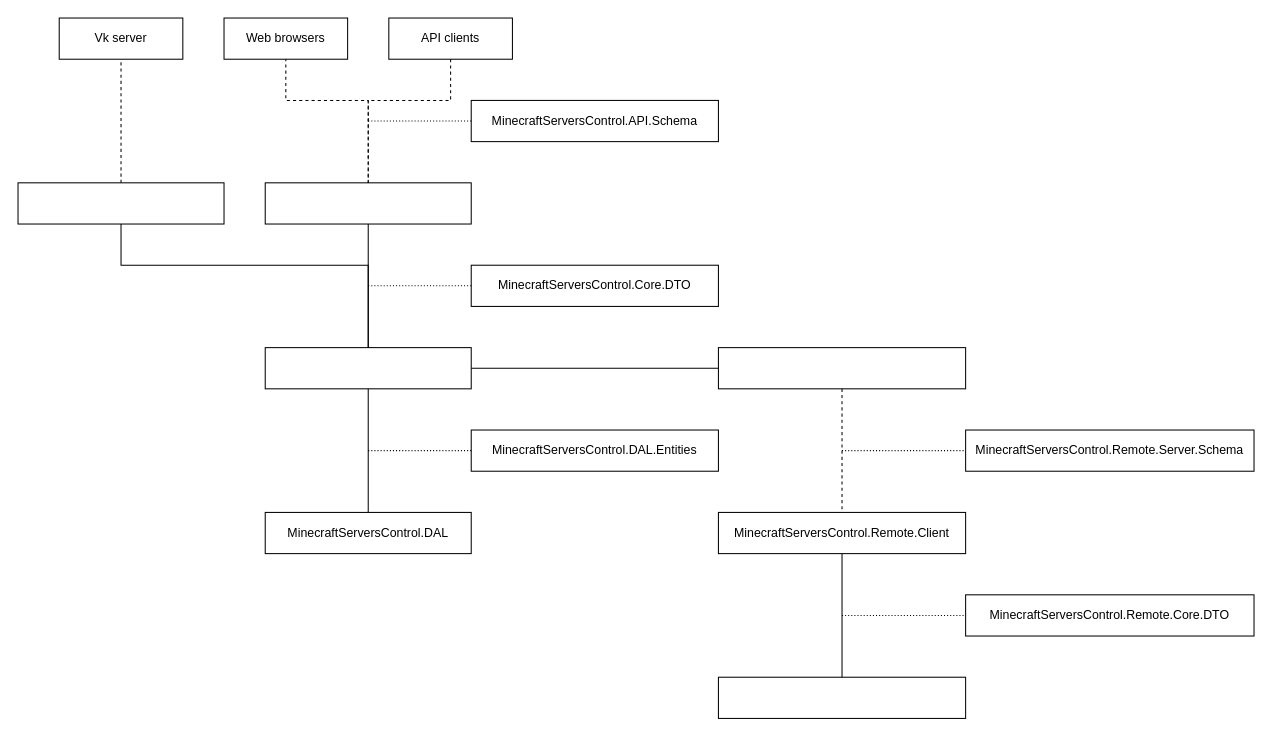
The diagram is 1272 pixels wide and 736 high, and some of its shapes have lost their labels. The shapes that lost their labels are listed below. From the top down, each one's centre as x and y in pixels, then its label:
At (x=120, y=203): "MinecraftServersControl.API.Vk".
At (x=367, y=203): "MinecraftServersControl.API".
At (x=367, y=368): "MinecraftServersControl.Core".
At (x=841, y=368): "MinecraftServersControl.Remote.Server".
At (x=841, y=697): "MinecraftServersControl.Remote.Core".
